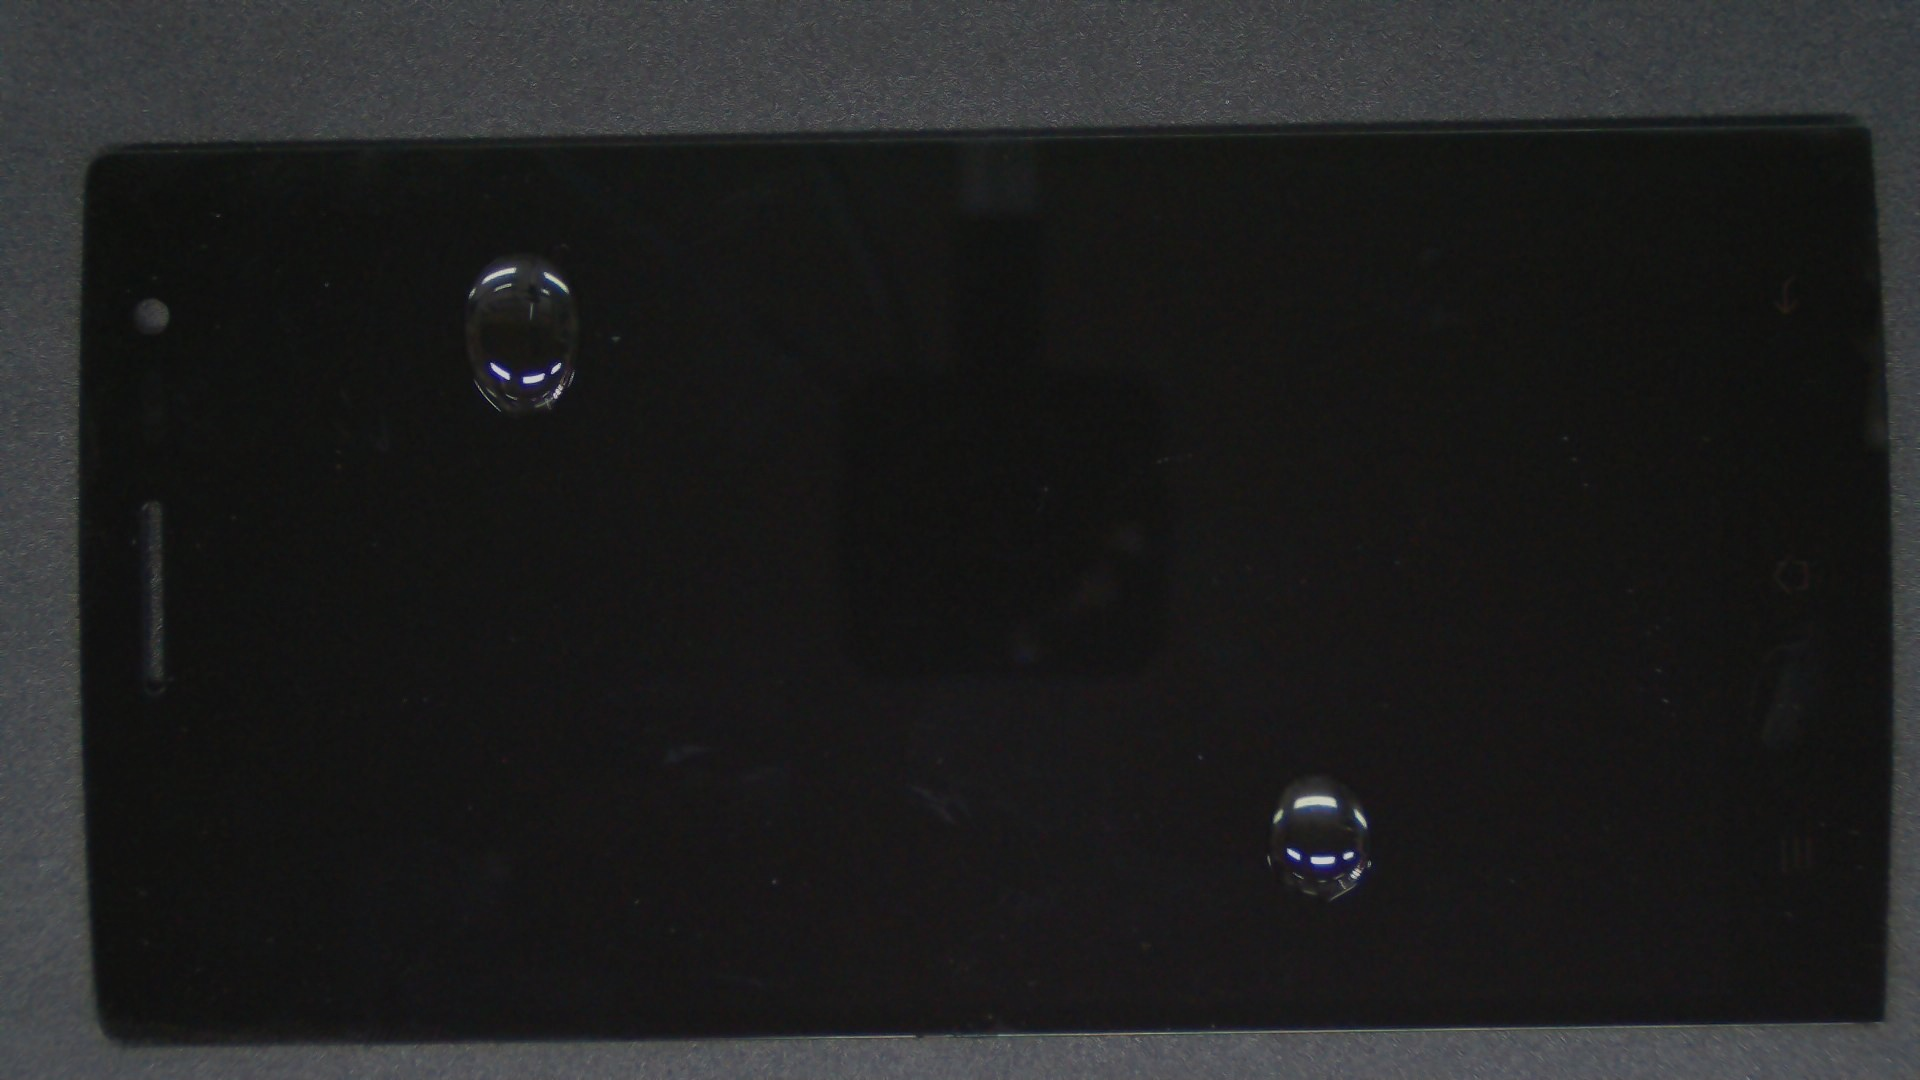oil: (655, 385, 1920, 1080), (257, 127, 767, 381)
